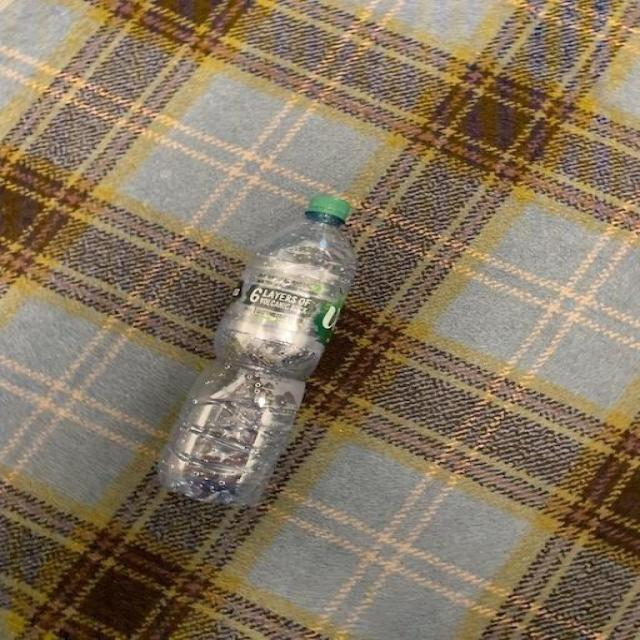plastic bottle: (159, 195, 358, 508)
